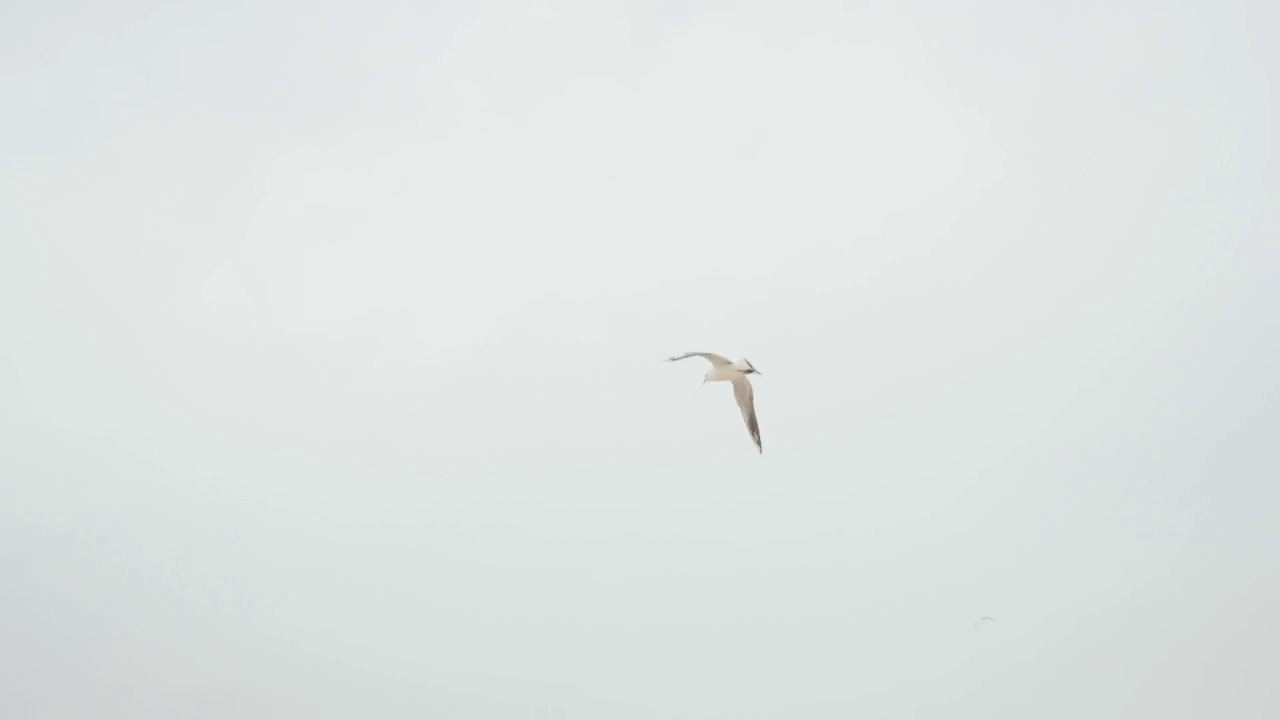bird: (666, 351, 767, 453)
